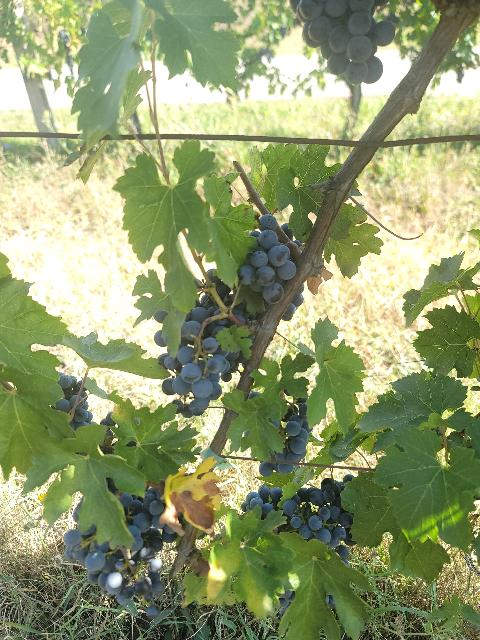grapes: (159, 306, 240, 416), (278, 478, 354, 562), (238, 214, 296, 305)
